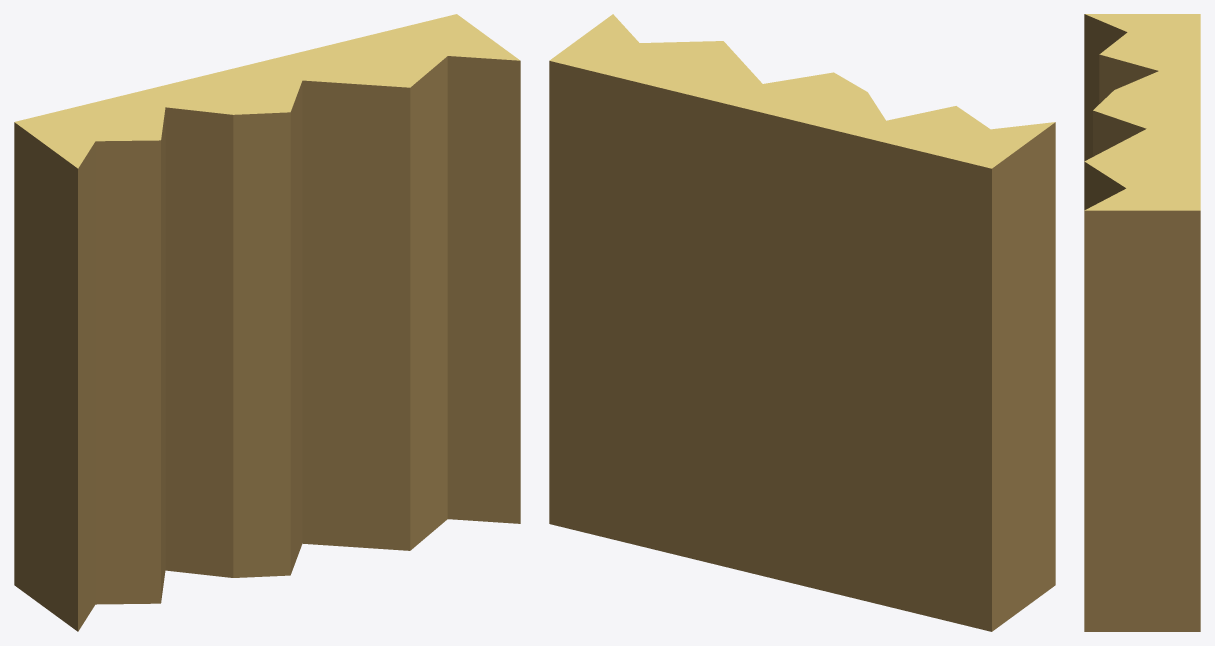
File: Terrain_Tile_Sand_Cliff_Face_Straight_01.fbx
The picture shows the model from 3 angles, left to right: view 1: azimuth 30°, elevation 25°; view 2: azimuth 150°, elevation 25°; view 3: azimuth 270°, elevation 25°; orthographic projection. The views are drawn at different scales.
Visible parts, largest first — view 1: Terrain_Tile_Sand_Cliff_Face_Straight_01; view 2: Terrain_Tile_Sand_Cliff_Face_Straight_01; view 3: Terrain_Tile_Sand_Cliff_Face_Straight_01.
Boxes of the visible parts, box(x1,y1,x2,y2) form: Terrain_Tile_Sand_Cliff_Face_Straight_01: box(14, 14, 520, 631); Terrain_Tile_Sand_Cliff_Face_Straight_01: box(549, 14, 1055, 631); Terrain_Tile_Sand_Cliff_Face_Straight_01: box(1084, 14, 1200, 631).
Size of the model in its own units: 126 by 126 by 31.5.
